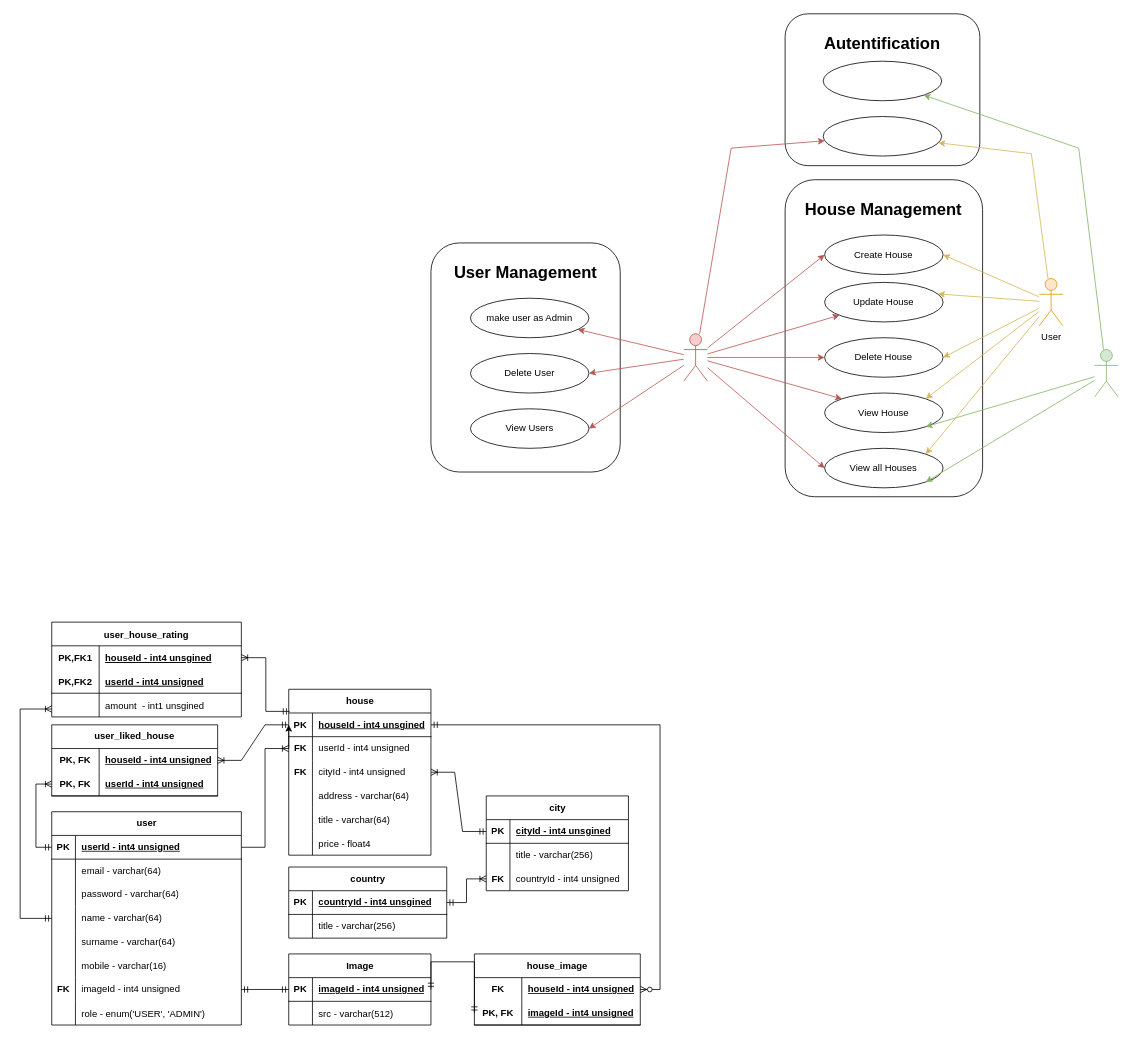
The diagram is 1133 pixels wide and 1039 high, and some of its shapes have lost their labels. Each missing label, with the centre of its shape:
"Admin" goes at (695,357).
"Login" goes at (882,136).
"Register" goes at (882,80).
"Visitor" goes at (1106,373).
